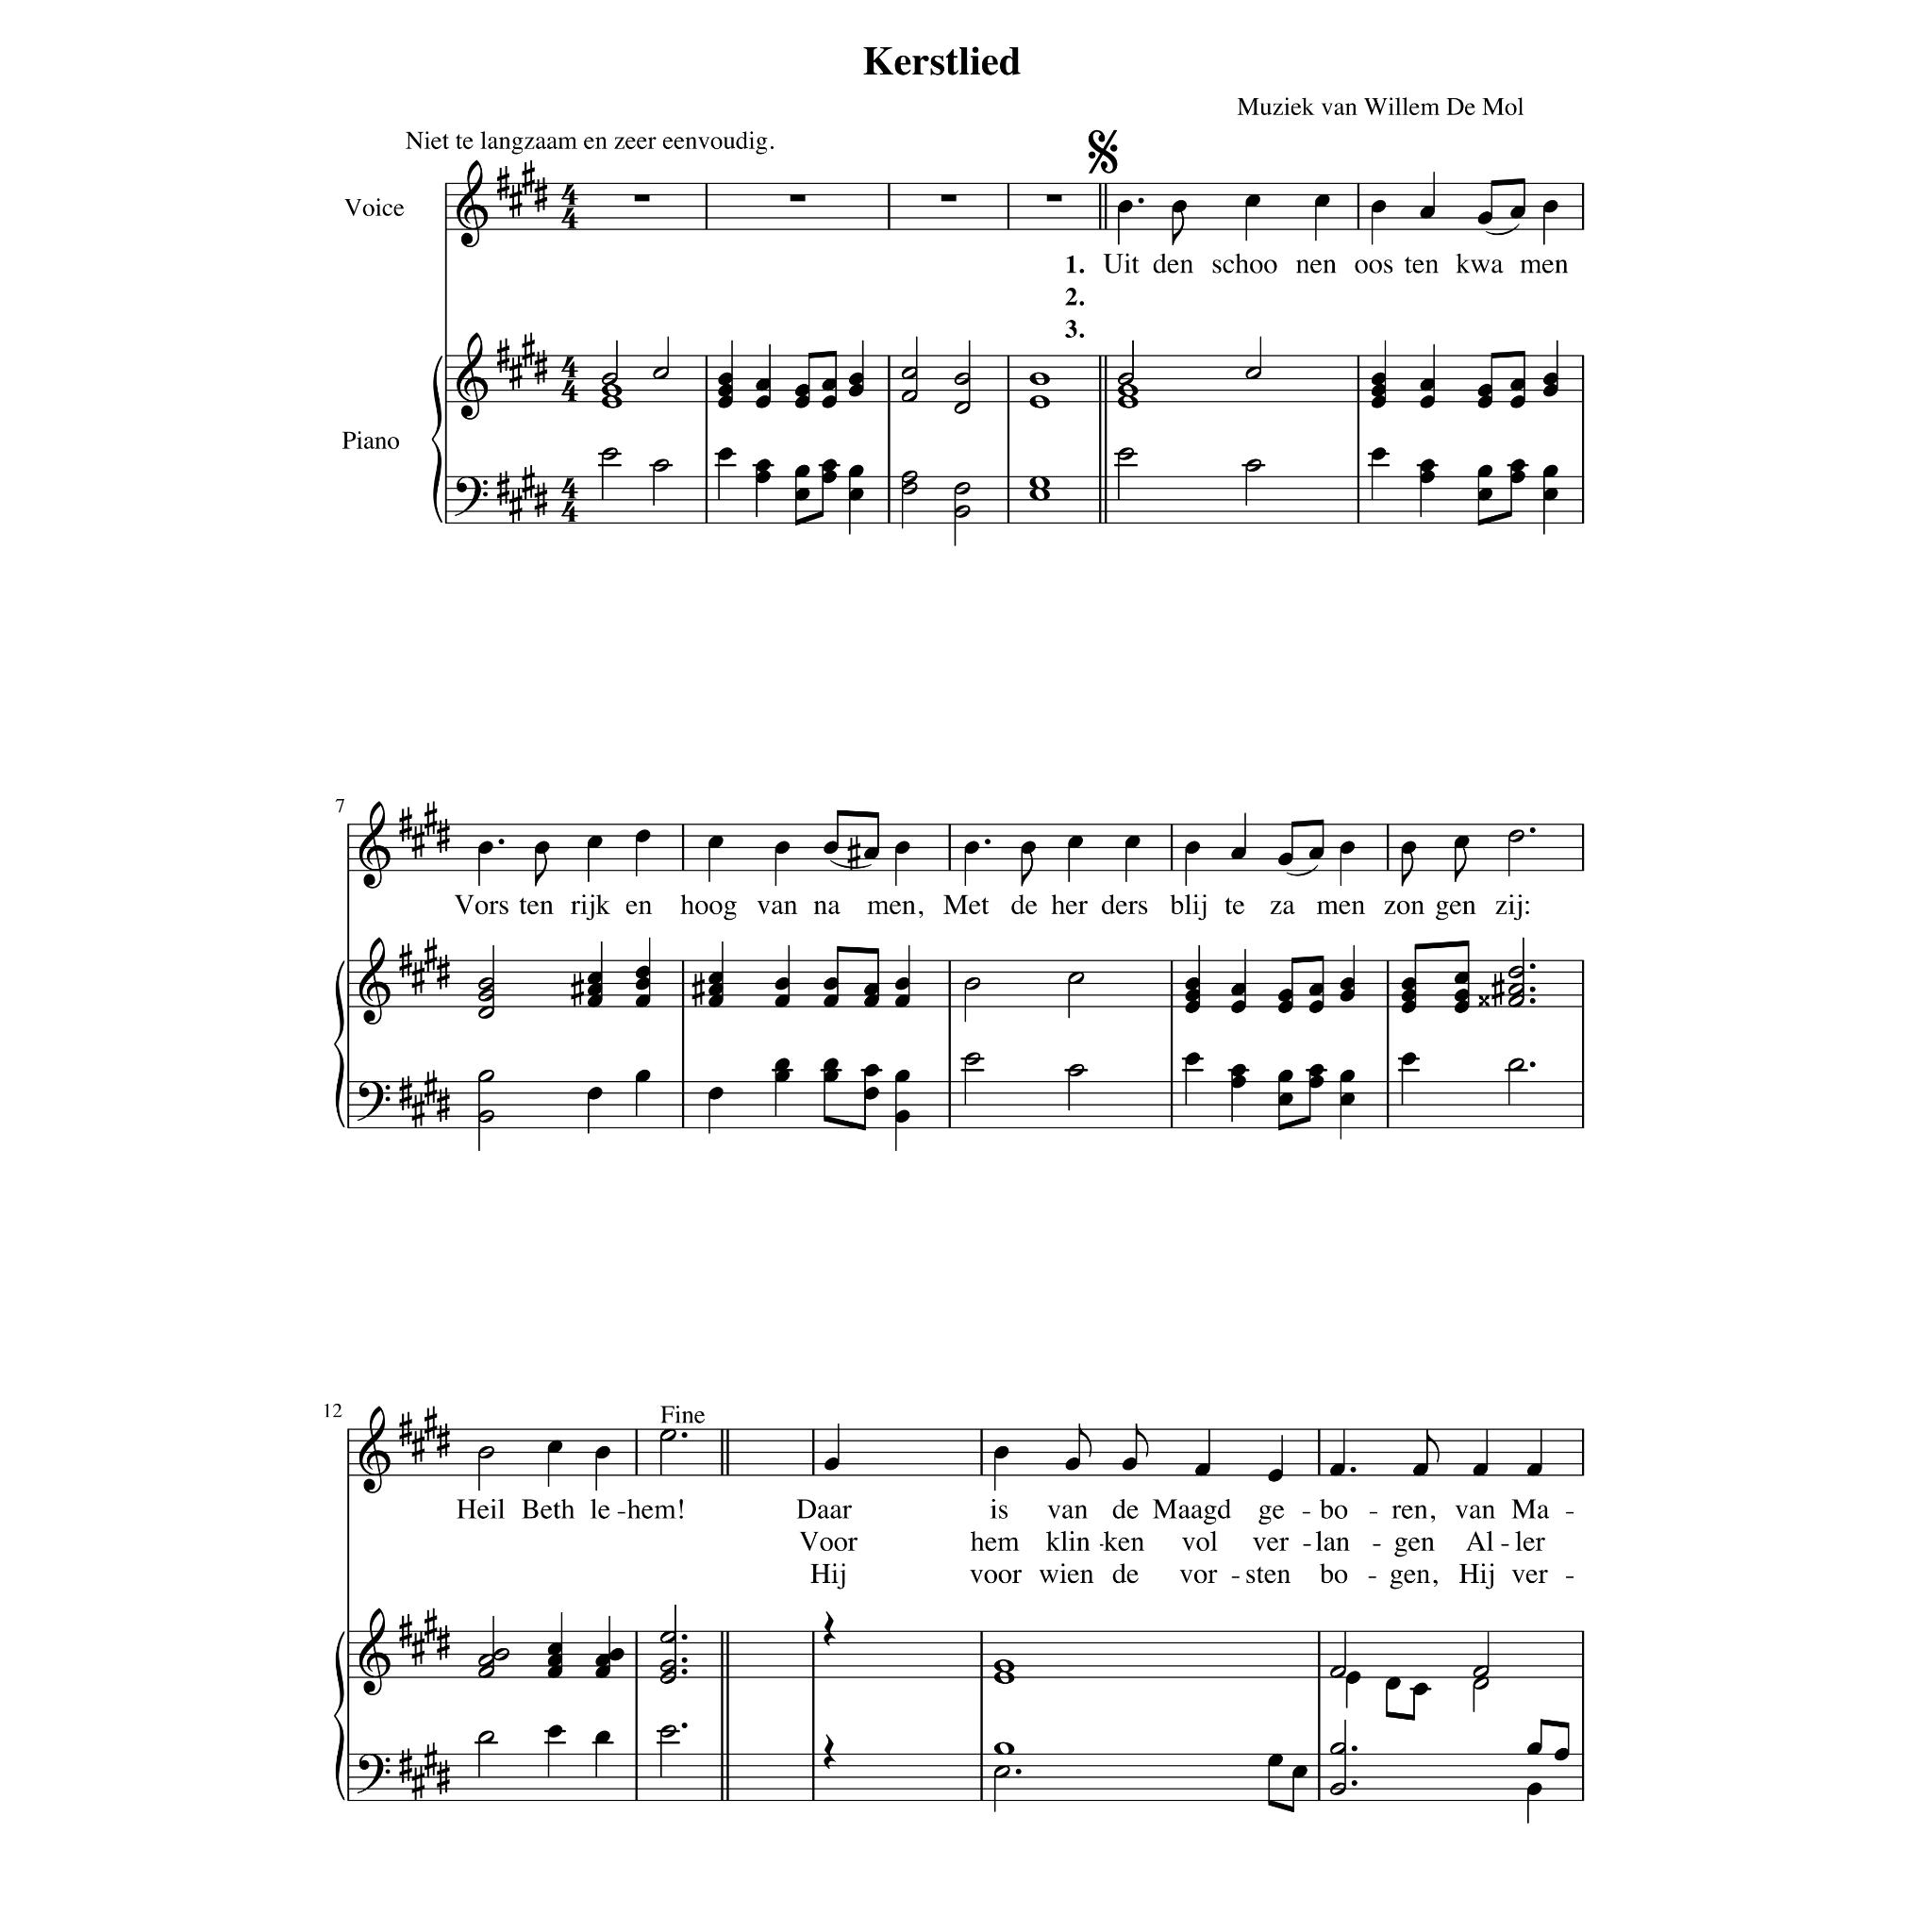brace: (333, 1631, 345, 1801), (333, 961, 345, 1129), (432, 356, 442, 524)
fClef: (453, 476, 488, 517), (357, 1081, 391, 1122), (357, 1753, 391, 1794)
flag8thDown: (1454, 847, 1467, 883), (1401, 853, 1414, 886), (1021, 853, 1033, 886), (534, 853, 547, 886), (1173, 211, 1184, 246)
flag8thUp: (1077, 1424, 1092, 1458), (1426, 1430, 1440, 1463), (1136, 1424, 1148, 1458)
gClef: (359, 936, 391, 1026), (359, 1405, 391, 1495), (456, 333, 488, 421), (456, 159, 488, 248), (359, 801, 391, 890), (359, 1608, 391, 1697)
noteheadBlack: (1369, 200, 1387, 214), (1369, 395, 1387, 409), (1369, 448, 1387, 462), (773, 1058, 791, 1072), (773, 977, 791, 991), (773, 994, 791, 1008), (1525, 1782, 1543, 1796), (1525, 1743, 1543, 1757), (1419, 379, 1435, 393), (1171, 200, 1187, 214), (1543, 200, 1559, 214), (1477, 395, 1493, 409), (1477, 211, 1493, 225), (1419, 471, 1435, 485), (1419, 395, 1435, 409), (1419, 205, 1435, 219), (1509, 205, 1525, 219), (1509, 471, 1525, 485), (1509, 379, 1525, 393), (1509, 395, 1525, 409), (718, 448, 734, 462), (718, 395, 734, 409), (794, 395, 810, 409), (755, 471, 771, 485), (755, 379, 771, 393), (755, 395, 771, 409), (1116, 200, 1132, 214), (821, 471, 837, 485), (821, 379, 837, 393), (821, 395, 837, 409), (1277, 1092, 1293, 1106), (1277, 1000, 1293, 1014), (1277, 853, 1293, 867), (1339, 1092, 1355, 1106), (1339, 977, 1355, 991), (1307, 1063, 1323, 1077), (1307, 1000, 1323, 1014), (1231, 1000, 1247, 1014), (1231, 1063, 1247, 1077), (1401, 977, 1417, 991), (1401, 1000, 1417, 1014), (1453, 971, 1468, 985), (1453, 1000, 1468, 1014), (635, 994, 651, 1008), (635, 977, 651, 991), (635, 966, 651, 980), (635, 830, 651, 844), (586, 971, 602, 985), (586, 1086, 602, 1100), (708, 994, 724, 1008), (708, 971, 724, 985), (708, 1086, 724, 1100), (586, 994, 602, 1008), (895, 1109, 911, 1123), (895, 977, 911, 991), (895, 994, 911, 1008), (823, 1058, 839, 1072), (823, 977, 839, 991), (823, 994, 839, 1008), (863, 1086, 879, 1100), (863, 1063, 879, 1077), (863, 994, 879, 1008), (1345, 1670, 1361, 1684), (1267, 1753, 1283, 1767), (1267, 1468, 1283, 1483), (1412, 1681, 1428, 1695), (594, 1730, 610, 1744), (594, 1652, 610, 1667), (594, 1665, 610, 1679), (594, 1445, 610, 1460), (547, 1642, 563, 1656), (547, 1652, 563, 1667), (547, 1665, 563, 1679), (547, 1440, 563, 1454), (993, 1445, 1008, 1460), (1369, 373, 1387, 386), (1369, 384, 1387, 396), (773, 1070, 791, 1083), (773, 842, 791, 855), (1525, 1463, 1543, 1476), (1185, 1000, 1200, 1014), (1185, 977, 1200, 991), (1315, 195, 1330, 207), (1246, 195, 1261, 207), (1543, 465, 1559, 478), (1543, 488, 1559, 501), (1543, 373, 1559, 386), (1543, 384, 1559, 396), (1477, 465, 1493, 478), (1477, 488, 1493, 501), (1477, 384, 1493, 396), (1419, 460, 1435, 472), (1509, 460, 1525, 472), (718, 373, 734, 386), (718, 384, 734, 396), (794, 465, 810, 478), (794, 488, 810, 501), (794, 384, 810, 396), (755, 460, 771, 472), (847, 465, 863, 478), (847, 488, 863, 501), (847, 373, 863, 386), (847, 384, 863, 396), (821, 460, 837, 472), (1277, 1070, 1293, 1083), (1277, 989, 1293, 1001), (1339, 1070, 1355, 1083), (1339, 989, 1355, 1001), (1339, 842, 1355, 855), (1307, 1076, 1323, 1088), (1307, 984, 1323, 996), (1307, 847, 1323, 860), (1125, 835, 1141, 847), (1067, 835, 1083, 847), (1231, 847, 1247, 860), (1231, 984, 1247, 996), (1231, 1076, 1247, 1088), (1401, 1053, 1417, 1065), (1401, 989, 1417, 1001), (1401, 842, 1417, 855), (1453, 989, 1468, 1001), (1453, 835, 1468, 847), (635, 1070, 651, 1083), (708, 835, 724, 847), (708, 984, 724, 996), (586, 984, 602, 996), (534, 842, 550, 855), (586, 835, 602, 847), (478, 842, 494, 855), (964, 842, 980, 855), (895, 1070, 911, 1083), (895, 842, 911, 855), (1021, 842, 1037, 855), (823, 1070, 839, 1083), (823, 842, 839, 855), (863, 984, 879, 996), (863, 847, 879, 860), (1292, 1766, 1307, 1778), (1330, 1463, 1346, 1476), (1122, 1458, 1138, 1470), (1065, 1458, 1081, 1470), (1194, 1463, 1210, 1476), (1553, 1748, 1569, 1760), (1412, 1463, 1428, 1476), (1385, 1677, 1401, 1690), (1472, 1463, 1488, 1476), (609, 1649, 625, 1661), (547, 1725, 563, 1737), (824, 1458, 840, 1470), (1185, 842, 1200, 855), (1185, 989, 1200, 1001), (1185, 1053, 1200, 1065)
noteheadHalf: (1116, 448, 1134, 462), (1244, 366, 1261, 380), (651, 366, 669, 380), (954, 481, 971, 495), (901, 481, 918, 495), (901, 471, 918, 485), (901, 366, 918, 380), (901, 389, 918, 403), (1507, 1058, 1525, 1072), (1507, 966, 1525, 980), (1507, 830, 1525, 844), (964, 977, 982, 991), (1329, 1743, 1346, 1757), (1329, 1782, 1346, 1796), (1329, 1665, 1346, 1679), (1472, 1665, 1490, 1679), (602, 448, 617, 462), (1069, 1063, 1085, 1077), (1069, 971, 1085, 985), (478, 1005, 494, 1019), (478, 977, 494, 991), (478, 1109, 494, 1123), (660, 1670, 676, 1684), (478, 1730, 494, 1744), (478, 1652, 494, 1667), (478, 1665, 494, 1679), (478, 1445, 494, 1460), (1116, 373, 1134, 386), (1244, 460, 1261, 472), (651, 460, 669, 472), (954, 373, 971, 386), (954, 506, 971, 518), (954, 402, 971, 414), (1507, 994, 1525, 1007), (1507, 984, 1525, 996), (964, 1053, 982, 1065), (1472, 1677, 1490, 1690), (492, 1649, 510, 1661), (993, 1766, 1010, 1778), (602, 373, 617, 386), (478, 1070, 494, 1083), (478, 989, 494, 1001), (660, 1725, 676, 1737), (660, 1631, 676, 1644), (660, 1660, 676, 1672), (660, 1430, 676, 1442)
noteheadWhole: (600, 395, 623, 409), (1028, 487, 1051, 501), (1028, 395, 1051, 409), (1028, 476, 1051, 490), (1116, 395, 1138, 409), (993, 1670, 1014, 1684), (993, 1743, 1014, 1757), (600, 384, 623, 396), (1028, 373, 1051, 386), (1116, 384, 1138, 396), (993, 1660, 1014, 1672)
restQuarter: (823, 1610, 835, 1645), (823, 1734, 835, 1769)
restWhole: (789, 195, 805, 202), (939, 195, 955, 202), (1046, 195, 1062, 202), (633, 195, 649, 202)
